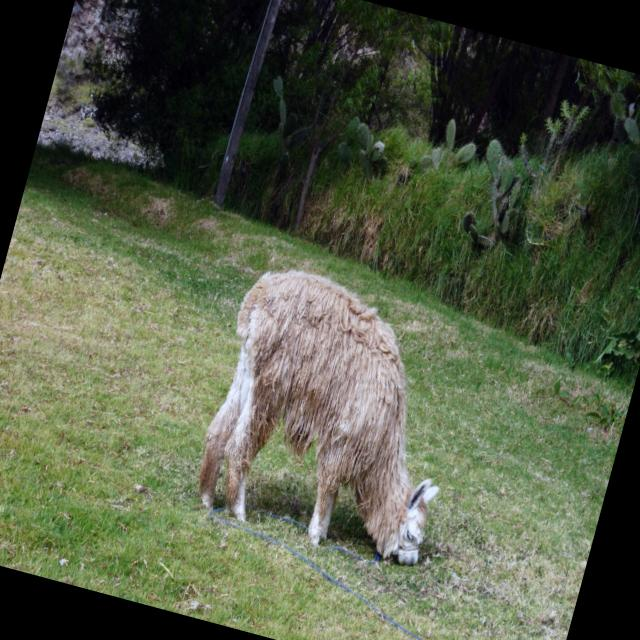alpaca: (183, 256, 486, 575)
